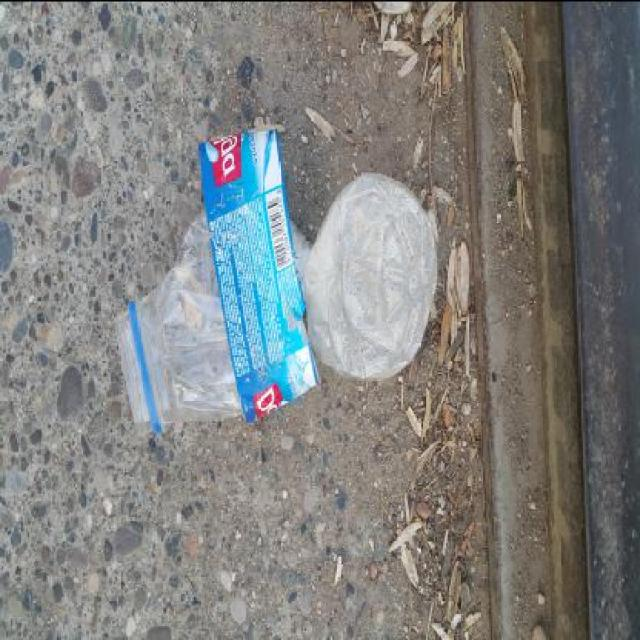plastic: (200, 114, 514, 440)
